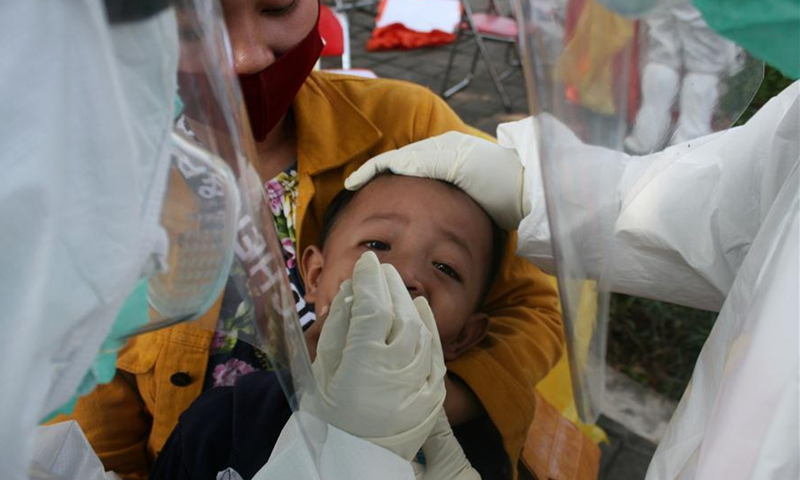Gloves: (306, 244, 451, 463), (337, 125, 532, 230)
mask_weared_incorrect: (160, 1, 326, 149)
